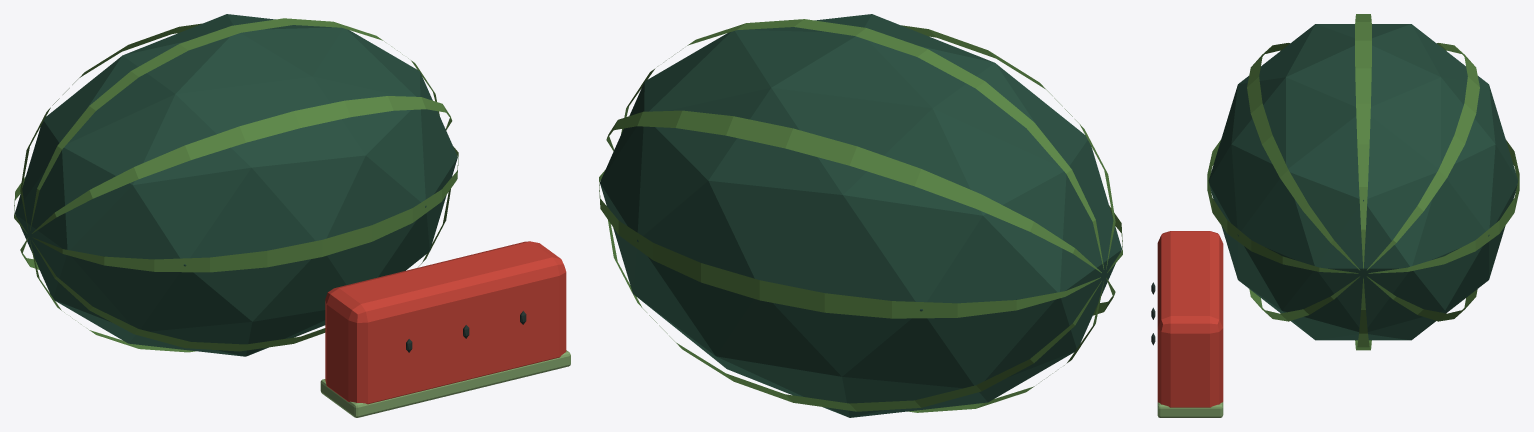
Rendered from watermelon.fbx.
The picture shows the model from 3 angles, left to right: view 1: azimuth 30°, elevation 25°; view 2: azimuth 150°, elevation 25°; view 3: azimuth 270°, elevation 25°; orthographic projection. The views are drawn at different scales.
Visible parts, largest first — view 1: watermelon; view 2: watermelon; view 3: watermelon.
Part boxes in pixels (x1=…): watermelon: x1=14, y1=14, x2=570, y2=417; watermelon: x1=599, y1=14, x2=1122, y2=417; watermelon: x1=1151, y1=14, x2=1519, y2=417.
Size of the model in its own units: 37.59 by 26.16 by 30.85.
